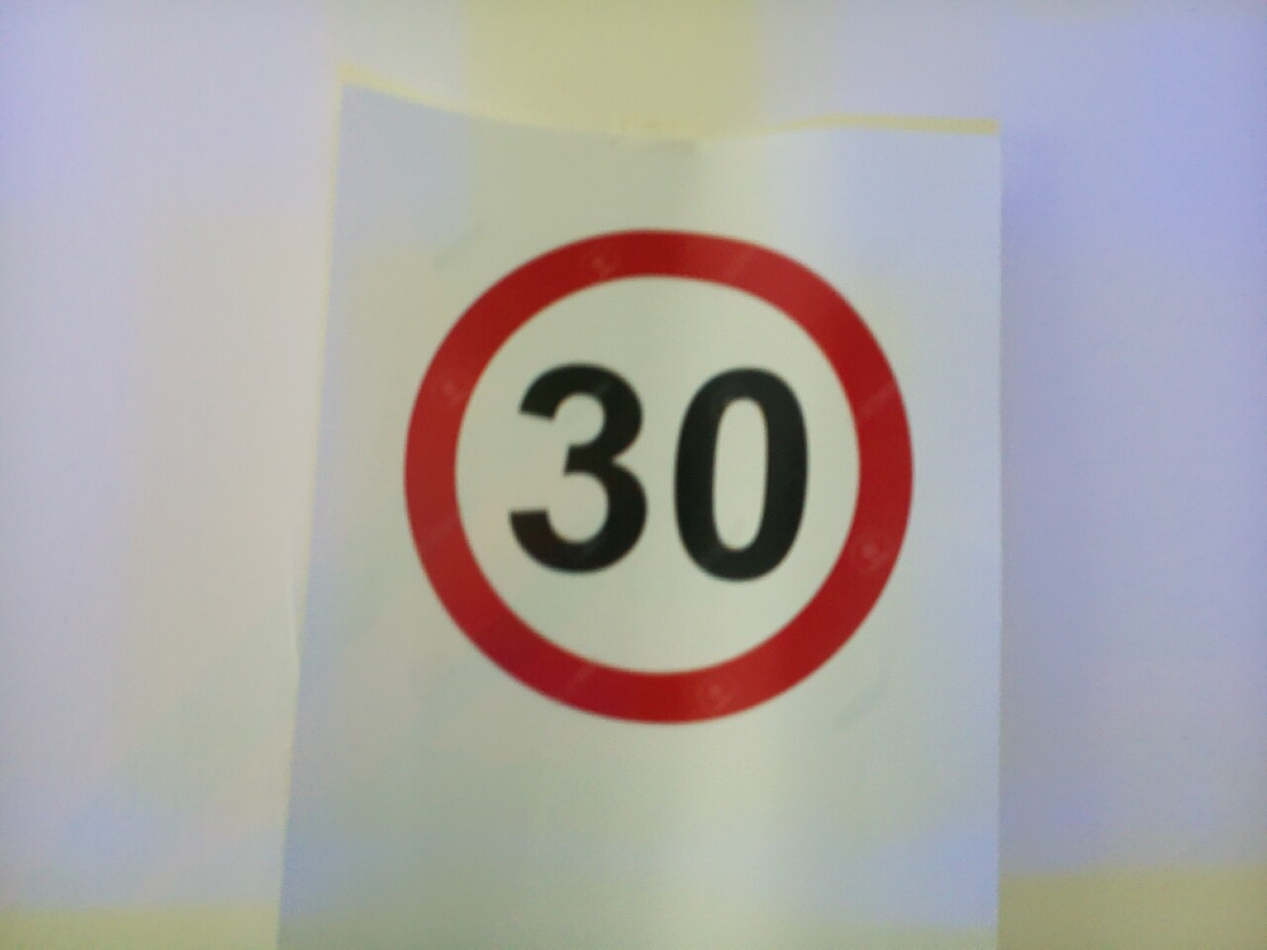speed_30: (668, 360, 814, 590)
